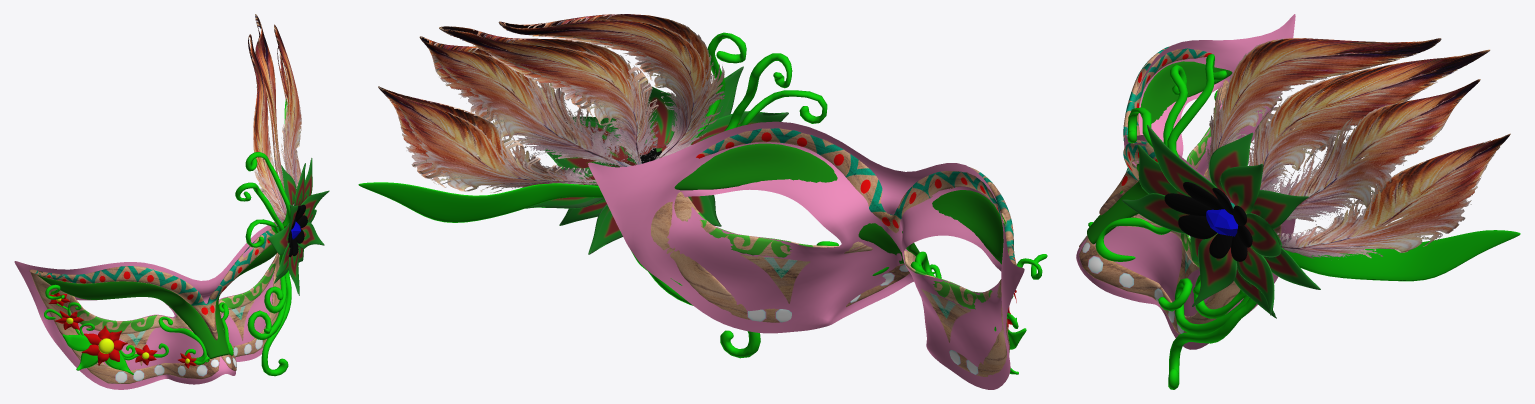
3 views of the same model, side by side, from view 1: azimuth 30°, elevation 25°; view 2: azimuth 150°, elevation 25°; view 3: azimuth 270°, elevation 25° (orthographic). The views are drawn at different scales.
Parts seen in each view (by area): view 1: Masque_makehuman-base.004, Sous_Sourcils_makehuman-base.002, Sourcils_makehuman-base.001, Bas_de_joue_makehuman-base.007, Plume.001_Plane.021, Cils_du_bas_makehuman-base.005, Plume.002_Plane.022, Plume_Plane.020, Tige.010_makehuman-base.020, Tige_066_makehuman-base.003, Tige.009_makehuman-base.019, Tige.013_makehuman-base.023 (+11 smaller); view 2: Masque_makehuman-base.004, Plume.002_Plane.022, Plume_Plane.020, Plume.001_Plane.021, Plume.003_Plane.023, Sous_Sourcils_makehuman-base.002, Sourcils_makehuman-base.001, Plume.004_Plane.024, Bas_de_joue_makehuman-base.007, Cils_du_bas_makehuman-base.005, GrandPetale.011_Plane.011, Tige.012_makehuman-base.022 (+9 smaller); view 3: Plume.003_Plane.023, Plume_Plane.020, Plume.002_Plane.022, Masque_makehuman-base.004, Plume.001_Plane.021, Plume.004_Plane.024, Sous_Sourcils_makehuman-base.002, Bas_de_joue_makehuman-base.007, Sourcils_makehuman-base.001, GrandPetale.004_Plane.004, GrandPetale.006_Plane.006, GrandPetale_Plane (+21 smaller).
Boxes of the visible parts, <box> form: Masque_makehuman-base.004: <box>14,222,277,389</box>; Sous_Sourcils_makehuman-base.002: <box>37,226,277,358</box>; Sourcils_makehuman-base.001: <box>29,226,278,340</box>; Bas_de_joue_makehuman-base.007: <box>30,254,280,383</box>; Plume.001_Plane.021: <box>248,34,286,223</box>; Cils_du_bas_makehuman-base.005: <box>68,252,278,334</box>; Plume.002_Plane.022: <box>274,24,301,205</box>; Plume_Plane.020: <box>255,14,284,190</box>; Tige.010_makehuman-base.020: <box>261,270,291,376</box>; Tige_066_makehuman-base.003: <box>158,302,233,361</box>; Tige.009_makehuman-base.019: <box>247,255,286,339</box>; Tige.013_makehuman-base.023: <box>245,152,290,226</box>; Masque_makehuman-base.004: <box>588,121,1024,389</box>; Plume.002_Plane.022: <box>419,36,645,166</box>; Plume_Plane.020: <box>439,26,658,164</box>; Plume.001_Plane.021: <box>498,14,724,159</box>; Plume.003_Plane.023: <box>378,86,597,192</box>; Sous_Sourcils_makehuman-base.002: <box>674,143,1009,269</box>; Sourcils_makehuman-base.001: <box>696,128,1017,266</box>; Plume.004_Plane.024: <box>358,182,603,222</box>; Bas_de_joue_makehuman-base.007: <box>650,202,1009,376</box>; Cils_du_bas_makehuman-base.005: <box>674,192,1001,309</box>; GrandPetale.011_Plane.011: <box>645,86,677,148</box>; Tige.012_makehuman-base.022: <box>724,53,792,131</box>; Plume.003_Plane.023: <box>1277,133,1510,259</box>; Plume_Plane.020: <box>1248,49,1490,190</box>; Plume.002_Plane.022: <box>1260,79,1480,225</box>; Masque_makehuman-base.004: <box>1076,14,1295,349</box>; Plume.001_Plane.021: <box>1206,38,1441,183</box>; Plume.004_Plane.024: <box>1283,230,1520,281</box>; Sous_Sourcils_makehuman-base.002: <box>1087,61,1232,244</box>; Bas_de_joue_makehuman-base.007: <box>1079,98,1281,334</box>; Sourcils_makehuman-base.001: <box>1099,46,1246,215</box>; GrandPetale.004_Plane.004: <box>1192,233,1236,306</box>; GrandPetale.006_Plane.006: <box>1147,125,1217,198</box>; GrandPetale_Plane: <box>1220,163,1263,213</box>.
Size of the model in its own units: 4.1 by 2.99 by 3.01.
12 materials, 6 textured.
